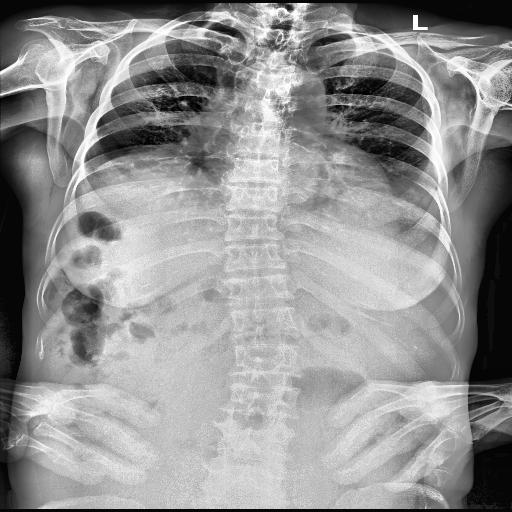0- Aortic enlargement: (262, 65, 326, 133), (264, 68, 324, 126), (263, 61, 326, 106)
3- Cardiomegaly: (196, 142, 393, 190)
9- Other lesion: (228, 36, 282, 106)
